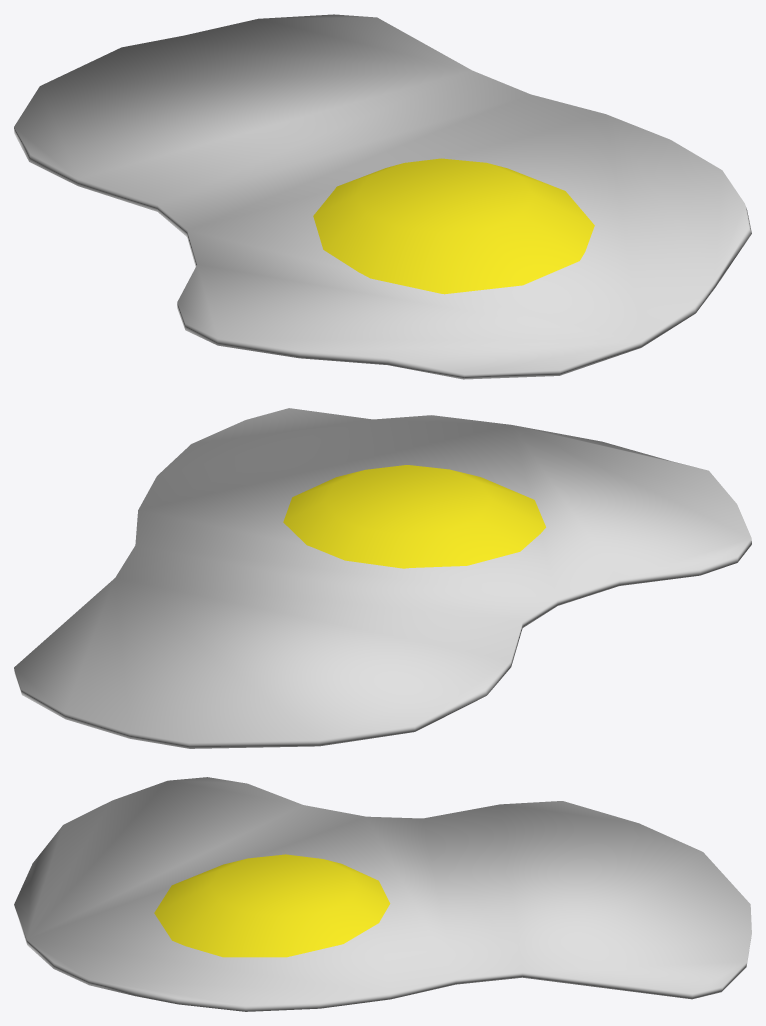
File: яйцо.fbx
3 views of the same model, one above another, from view 1: azimuth 30°, elevation 25°; view 2: azimuth 150°, elevation 25°; view 3: azimuth 270°, elevation 25° (orthographic). The views are drawn at different scales.
Visible parts, largest first — view 1: Circle; view 2: Circle; view 3: Circle.
Part boxes in pixels (bbox=[...]): Circle: bbox=[14, 14, 751, 379]; Circle: bbox=[14, 408, 751, 748]; Circle: bbox=[14, 777, 751, 1011].
Bounding box in the file's own units: 15.21 × 1.44 × 20.69.
